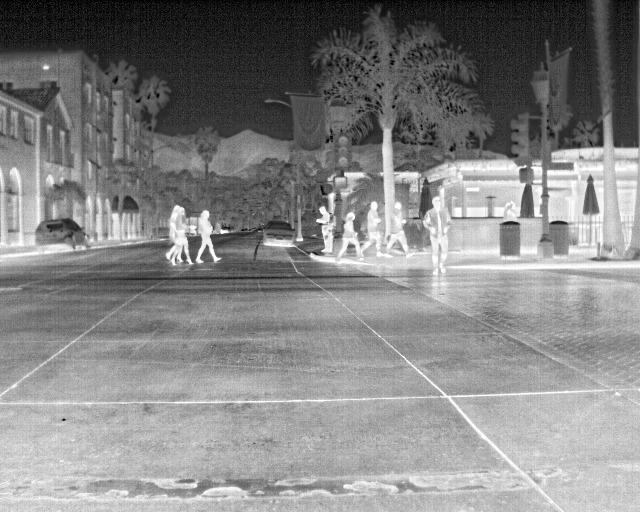bicycle: (33, 216, 91, 252), (258, 220, 296, 247)
empty: (421, 195, 457, 277), (193, 207, 223, 267), (385, 200, 414, 255), (360, 202, 388, 258), (162, 204, 182, 268), (337, 211, 363, 259), (176, 205, 193, 270), (315, 206, 334, 254)
